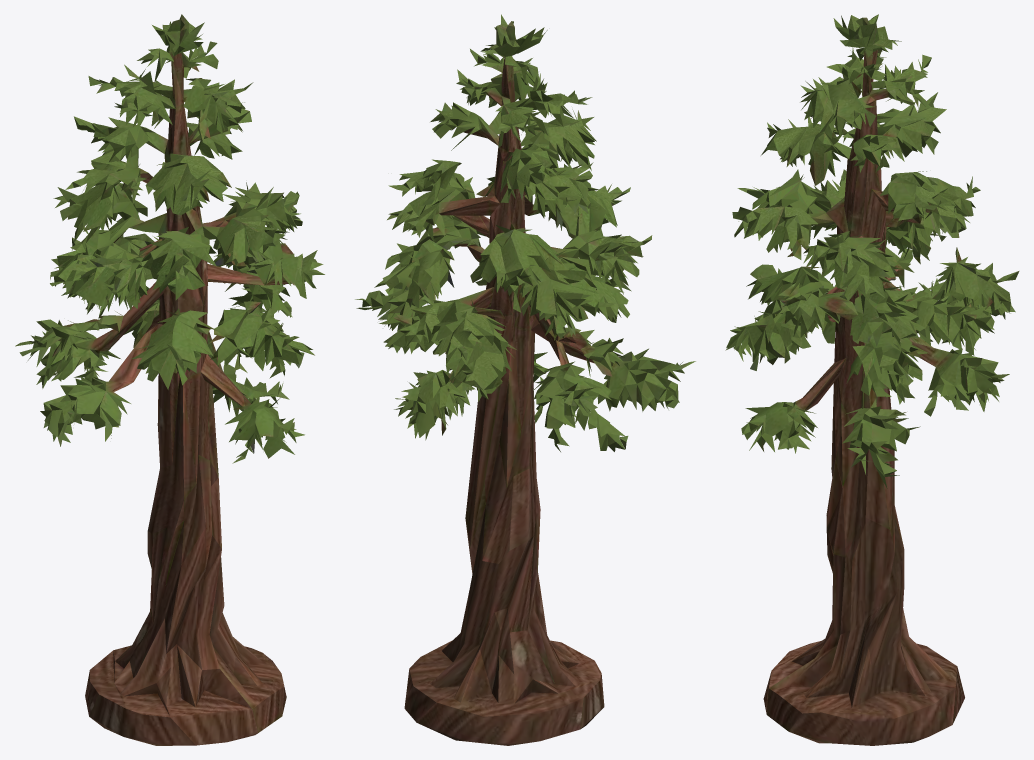
File: lm_foresta.glb
3 renders of one model, left to right at view 1: azimuth 30°, elevation 25°; view 2: azimuth 150°, elevation 25°; view 3: azimuth 270°, elevation 25°, orthographic.
Bounding box in the file's own units: 0.8224 × 1.88 × 0.7286.
Materials: 1 (1 with a texture image).
